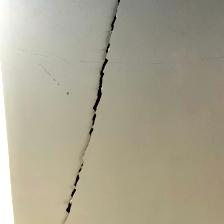Medium: (49, 4, 127, 220)
